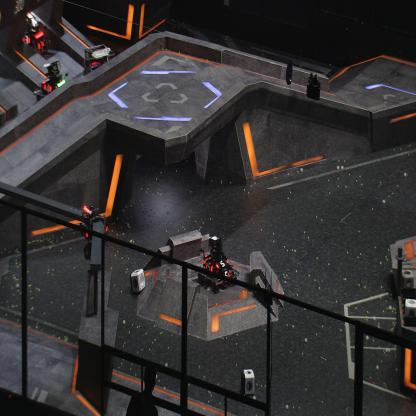car: (197, 234, 240, 294), (81, 43, 117, 93), (34, 59, 70, 108), (16, 12, 50, 58)
